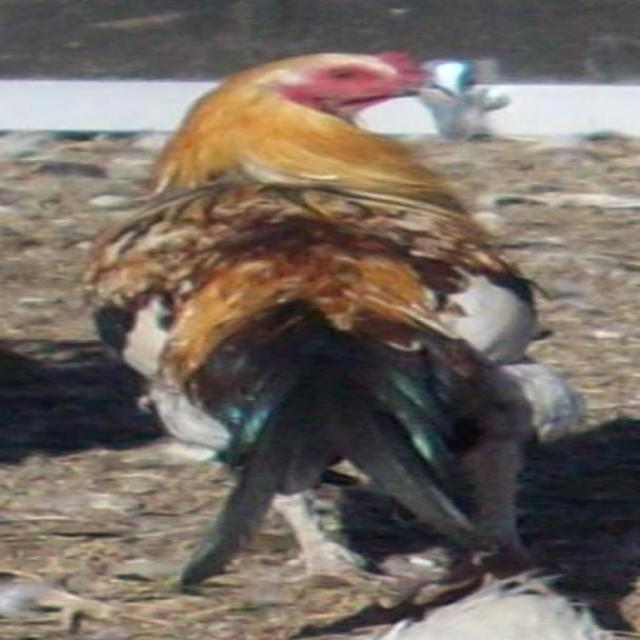Chicken: (45, 39, 606, 597)
